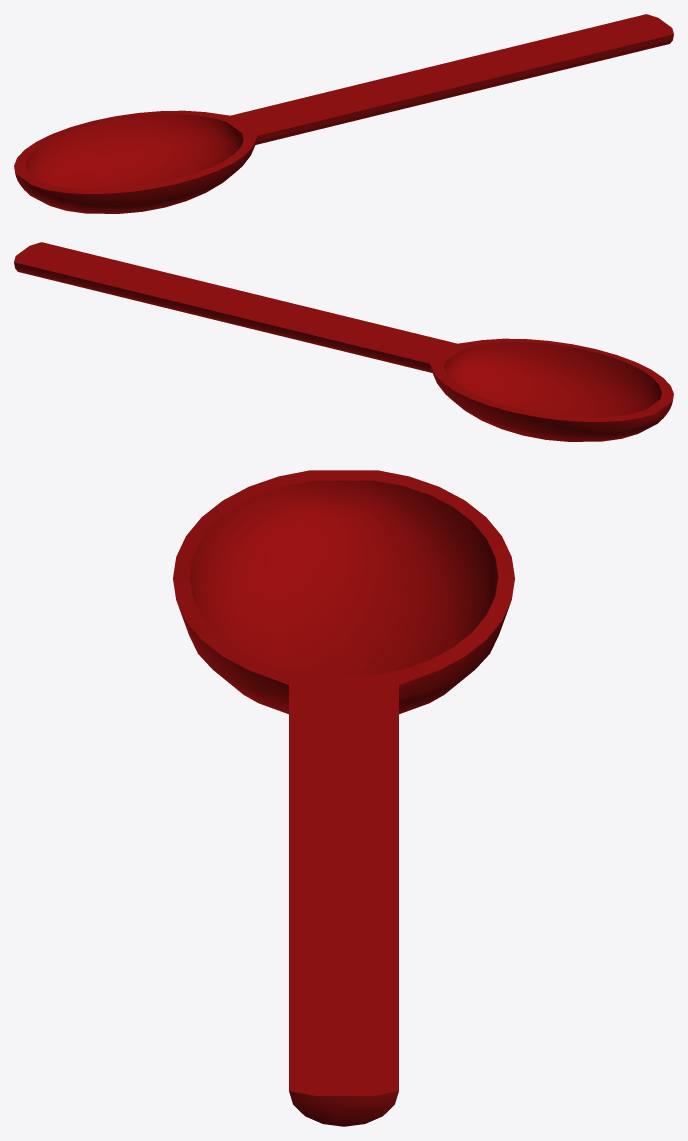
The model's file is Spoon.FBX.
3 views of the same model, one above another, from view 1: azimuth 30°, elevation 25°; view 2: azimuth 150°, elevation 25°; view 3: azimuth 270°, elevation 25° (orthographic). The views are drawn at different scales.
Parts seen in each view (by area): view 1: spoon; view 2: spoon; view 3: spoon.
Part boxes in pixels (bbox=[...]): spoon: bbox=[14, 14, 673, 213]; spoon: bbox=[14, 242, 673, 441]; spoon: bbox=[173, 470, 514, 1126].
Size of the model in its own units: 0.1045 by 0.0074 by 0.0241.
